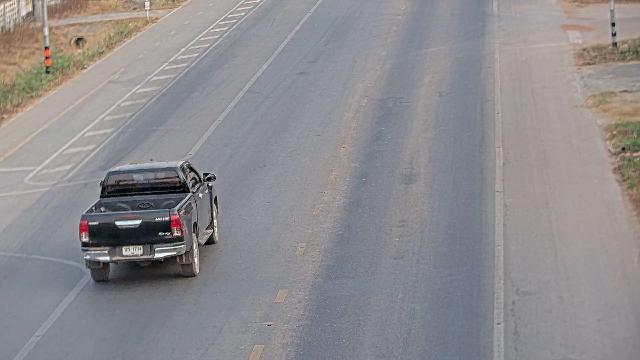pickup-truck: (78, 159, 219, 282)
